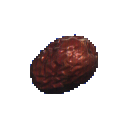gd: (10, 18, 109, 116)
